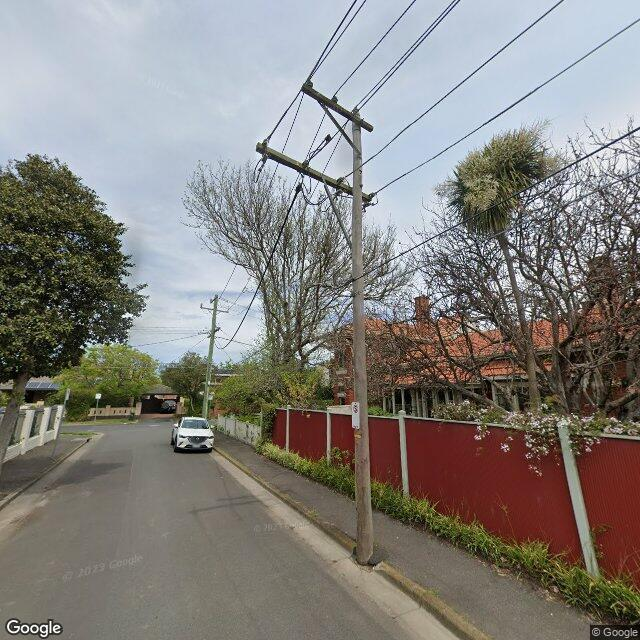crossarm: (253, 134, 380, 213), (301, 80, 375, 132), (200, 307, 230, 313), (207, 328, 220, 338)
timber-pole: (351, 113, 375, 564), (202, 294, 218, 419)
